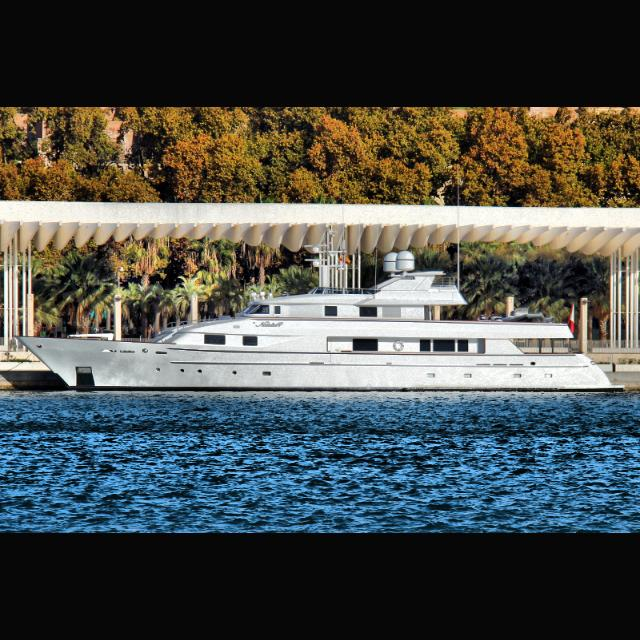yacht: (12, 249, 628, 393)
